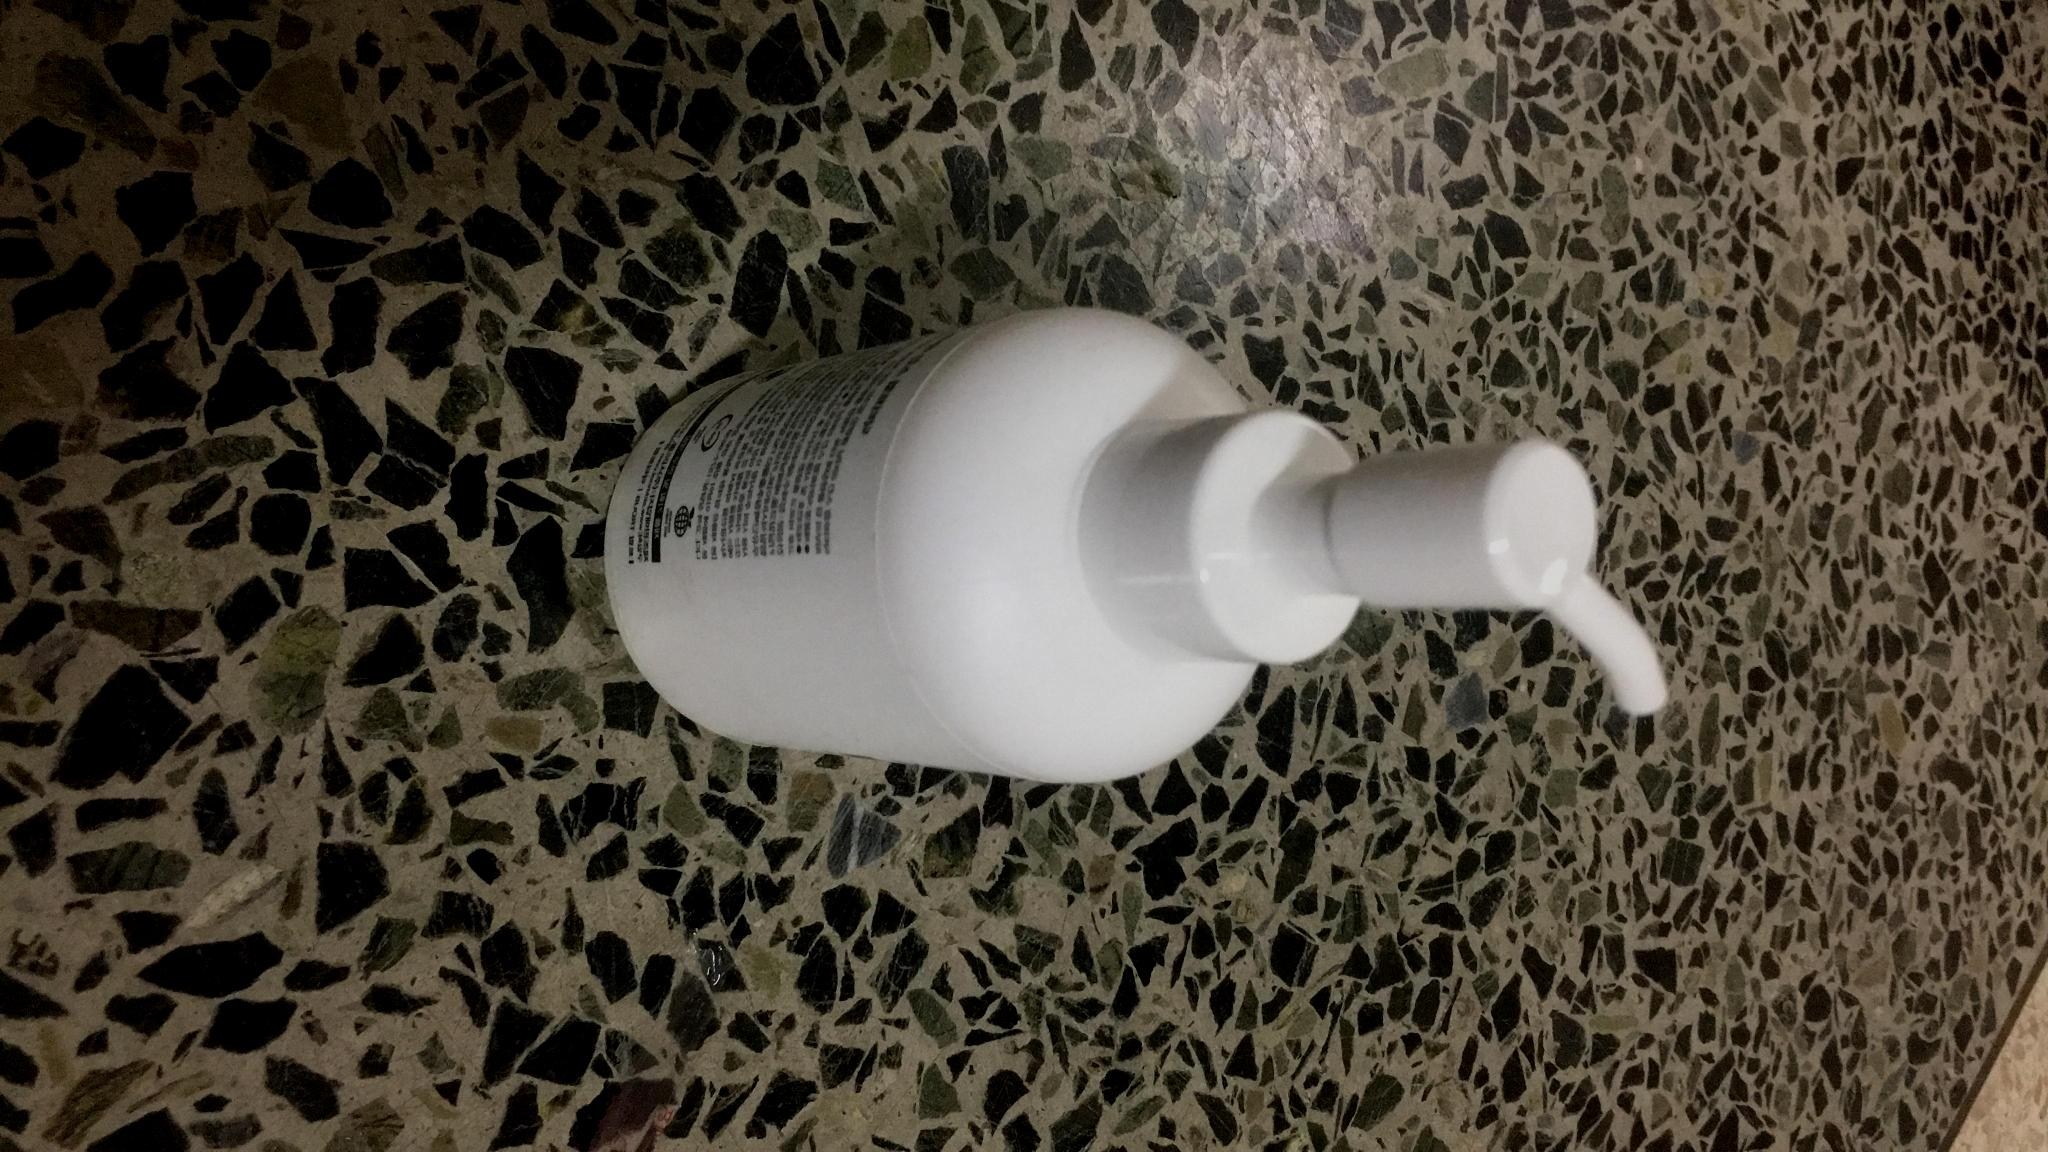bottle: (522, 295, 1681, 792)
